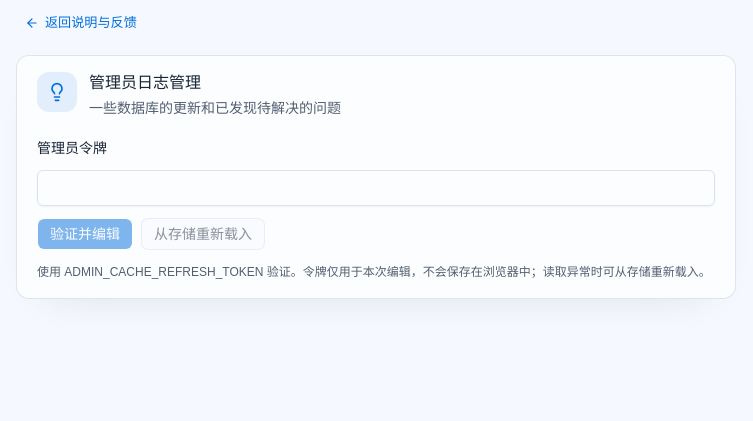
manager recovers an unavailable startup through one explicit authenticated reload
In the password field labelled "管理员令牌": (376, 188) [37,170,715,206], type "admin-secret"
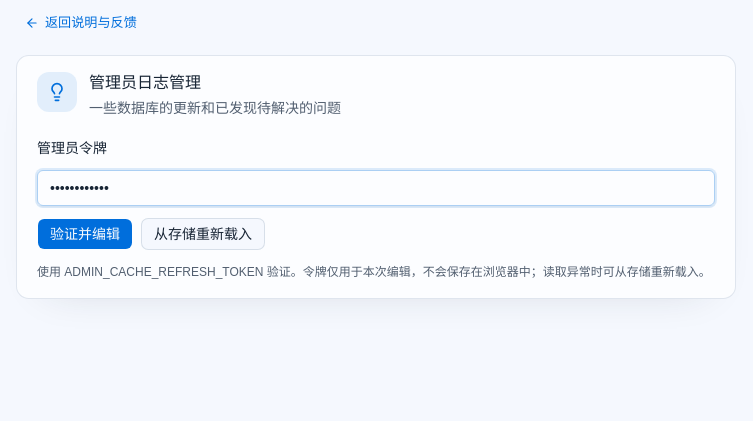
Click the button "从存储重新载入": click(203, 234) [141,218,265,250]
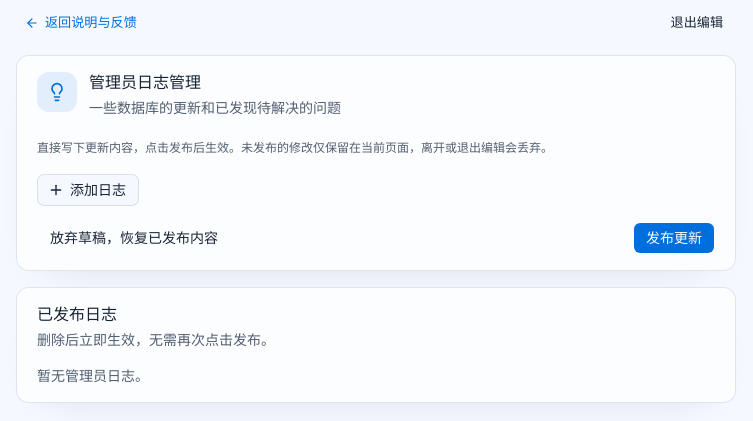
Expected: the button "发布更新" is shown, [633,222,715,254]
